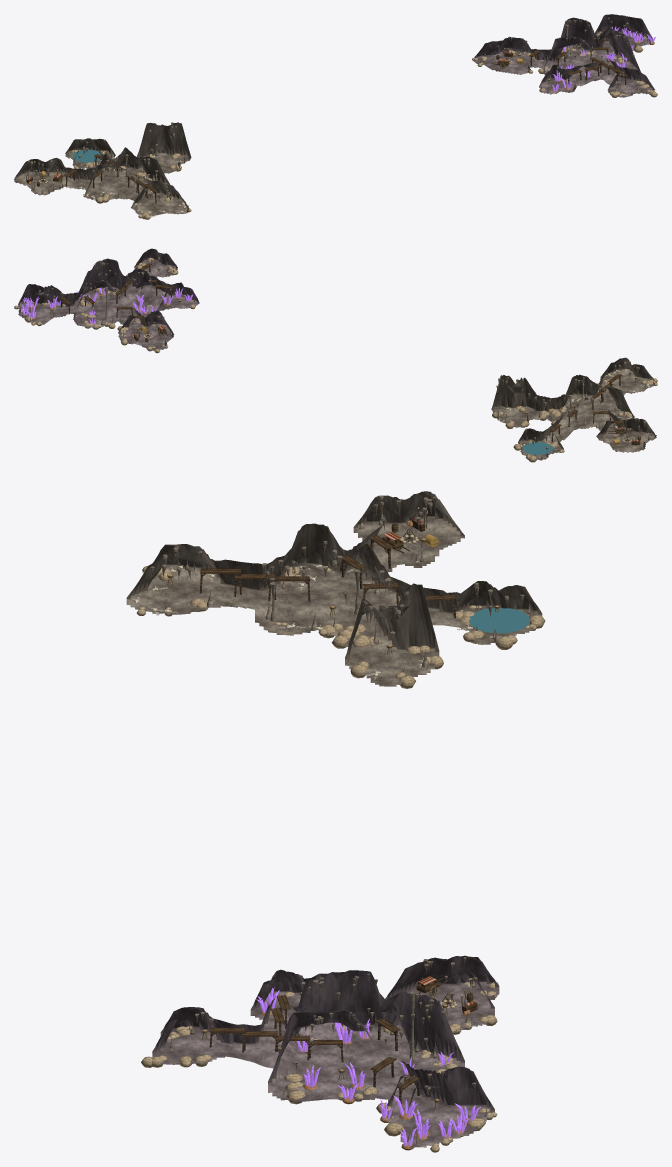
The model's file is world.glb.
The picture shows the model from 3 angles, top to bottom: view 1: azimuth 30°, elevation 25°; view 2: azimuth 150°, elevation 25°; view 3: azimuth 270°, elevation 25°; orthographic projection. The views are drawn at different scales.
Visible parts, largest first — view 1: Structure_CaveRoof_2_1_hollow, Structure_CaveRoof_3_1_wind, Structure_CaveRoof_2_1_wind, Terrain_CaveFloor_1_1_hollow, Structure_CaveRoof_1_1_hollow, Terrain_CaveFloor_1_2_hollow, Terrain_CaveFloor_1_1_wind, Terrain_CaveFloor_1_2_wind, Structure_CaveRoof_1_1_wind, Terrain_CaveFloor_2_1_hollow, Structure_CaveRoof_2_2_wind, Terrain_CaveFloor_0_1_wind (+8 smaller); view 2: Terrain_CaveFloor_1_2_hollow, Terrain_CaveFloor_2_1_hollow, Terrain_CaveFloor_2_1_wind, Terrain_CaveFloor_1_1_hollow, Structure_CaveRoof_3_1_wind, Structure_CaveRoof_2_2_hollow, Structure_CaveRoof_2_1_hollow, Terrain_CaveFloor_1_1_wind, Structure_CaveRoof_2_1_wind, Structure_CaveRoof_1_2_hollow, Structure_CaveRoof_2_2_wind, Terrain_CaveFloor_2_2_wind (+6 smaller); view 3: Structure_CaveRoof_1_1_hollow, Terrain_CaveFloor_2_1_hollow, Terrain_CaveFloor_2_2_hollow, Terrain_CaveFloor_2_2_wind, Structure_CaveRoof_1_2_wind, Terrain_CaveFloor_2_1_wind, Structure_CaveRoof_2_1_wind, Terrain_CaveFloor_1_1_hollow, Terrain_CaveFloor_1_2_hollow, Structure_CaveRoof_1_2_hollow, Terrain_CaveFloor_1_1_wind, Terrain_CaveFloor_1_2_wind (+12 smaller).
Boxes of the visible parts, x1=… form: Structure_CaveRoof_2_1_hollow: x1=563, y1=14, x2=629, y2=59; Structure_CaveRoof_3_1_wind: x1=153, y1=123, x2=190, y2=167; Structure_CaveRoof_2_1_wind: x1=94, y1=122, x2=170, y2=168; Terrain_CaveFloor_1_1_hollow: x1=504, y1=48, x2=587, y2=74; Structure_CaveRoof_1_1_hollow: x1=514, y1=19, x2=591, y2=69; Terrain_CaveFloor_1_2_hollow: x1=543, y1=69, x2=624, y2=92; Terrain_CaveFloor_1_1_wind: x1=37, y1=166, x2=119, y2=190; Terrain_CaveFloor_1_2_wind: x1=85, y1=181, x2=152, y2=204; Structure_CaveRoof_1_1_wind: x1=36, y1=153, x2=113, y2=179; Terrain_CaveFloor_2_1_hollow: x1=566, y1=41, x2=634, y2=66; Structure_CaveRoof_2_2_wind: x1=135, y1=156, x2=169, y2=193; Terrain_CaveFloor_0_1_wind: x1=14, y1=172, x2=58, y2=195; Terrain_CaveFloor_1_2_hollow: x1=118, y1=272, x2=191, y2=312; Terrain_CaveFloor_2_1_hollow: x1=35, y1=299, x2=116, y2=326; Terrain_CaveFloor_2_1_wind: x1=506, y1=407, x2=584, y2=443; Terrain_CaveFloor_1_1_hollow: x1=86, y1=304, x2=161, y2=339; Structure_CaveRoof_3_1_wind: x1=491, y1=375, x2=528, y2=417; Structure_CaveRoof_2_2_hollow: x1=83, y1=258, x2=141, y2=294; Structure_CaveRoof_2_1_hollow: x1=36, y1=268, x2=110, y2=318; Terrain_CaveFloor_1_1_wind: x1=556, y1=416, x2=634, y2=448; Structure_CaveRoof_2_1_wind: x1=511, y1=377, x2=568, y2=440; Structure_CaveRoof_1_2_hollow: x1=122, y1=269, x2=192, y2=304; Structure_CaveRoof_2_2_wind: x1=551, y1=370, x2=606, y2=408; Terrain_CaveFloor_2_2_wind: x1=557, y1=383, x2=616, y2=415; Structure_CaveRoof_1_1_hollow: x1=340, y1=970, x2=464, y2=1059; Terrain_CaveFloor_2_1_hollow: x1=340, y1=1063, x2=469, y2=1124; Terrain_CaveFloor_2_2_hollow: x1=212, y1=1047, x2=340, y2=1101; Terrain_CaveFloor_2_2_wind: x1=212, y1=593, x2=340, y2=635; Structure_CaveRoof_1_2_wind: x1=212, y1=523, x2=340, y2=589; Terrain_CaveFloor_2_1_wind: x1=340, y1=602, x2=469, y2=666; Structure_CaveRoof_2_1_wind: x1=345, y1=565, x2=464, y2=657; Terrain_CaveFloor_1_1_hollow: x1=340, y1=1006, x2=469, y2=1065; Terrain_CaveFloor_1_2_hollow: x1=212, y1=1000, x2=340, y2=1062; Structure_CaveRoof_1_2_hollow: x1=212, y1=972, x2=340, y2=1043; Terrain_CaveFloor_1_1_wind: x1=340, y1=543, x2=469, y2=614; Terrain_CaveFloor_1_2_wind: x1=212, y1=564, x2=340, y2=601.
Size of the model in its own units: 169 by 11.08 by 48.88.
19 materials, 18 textured.
